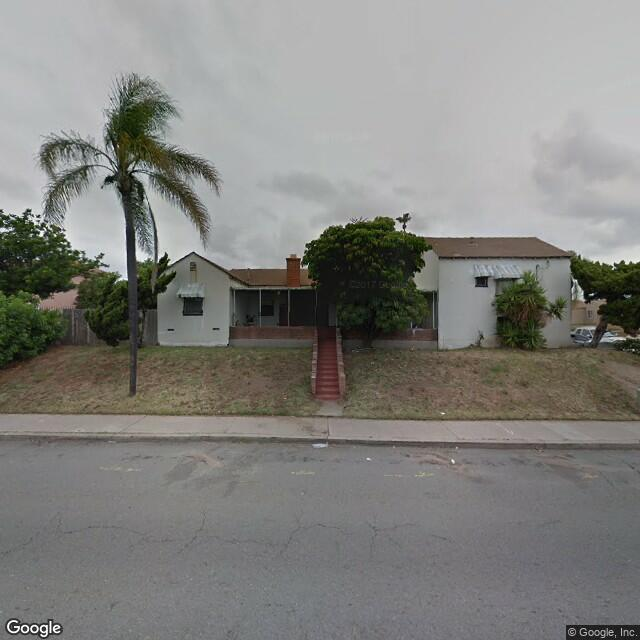litter: (439, 406, 454, 420), (448, 456, 460, 472), (308, 439, 332, 446)
